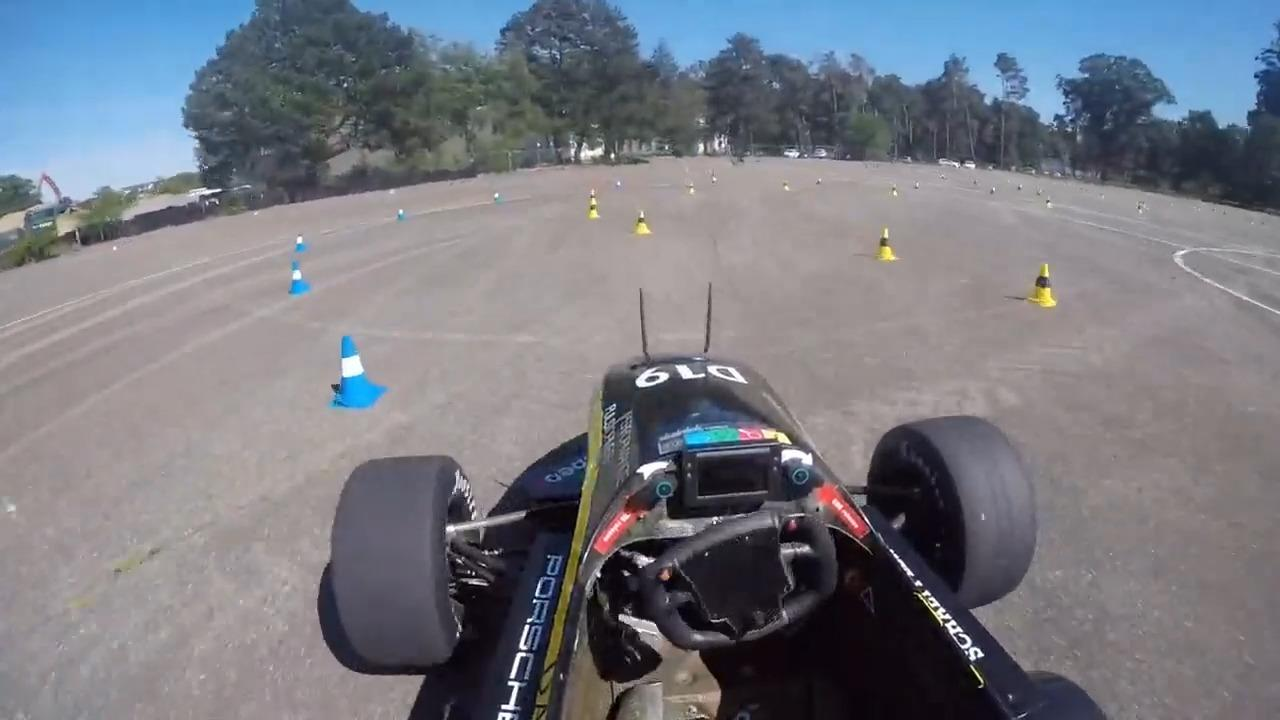blue_cone: (327, 330, 388, 413), (288, 261, 314, 296), (291, 231, 308, 254), (396, 206, 407, 222)
yellow_cone: (1025, 260, 1059, 312), (874, 226, 899, 262), (632, 209, 654, 238), (586, 202, 601, 220), (587, 187, 600, 204)
